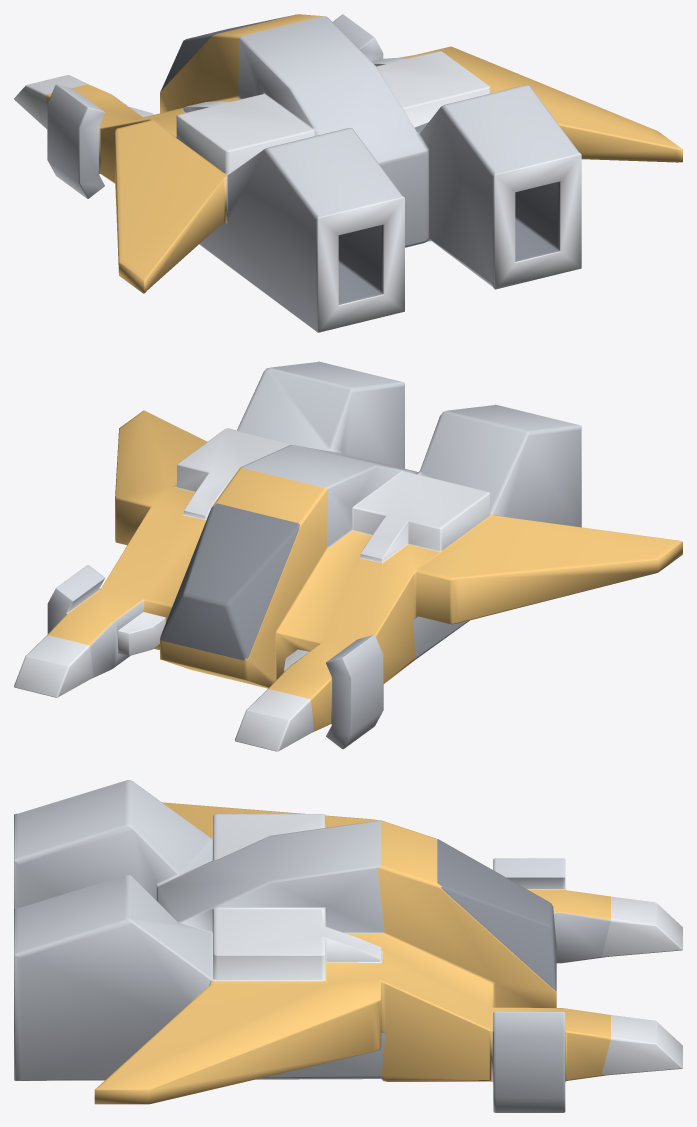
Rendered from air-basic.glb.
The picture shows the model from 3 angles, top to bottom: view 1: azimuth 30°, elevation 25°; view 2: azimuth 150°, elevation 25°; view 3: azimuth 270°, elevation 25°; orthographic projection. The views are drawn at different scales.
Visible parts, largest first — view 1: craft_miner; view 2: craft_miner; view 3: craft_miner.
Part boxes in pixels (box(x1,y1,x2,y2)): craft_miner: box(14, 14, 682, 332); craft_miner: box(14, 361, 682, 751); craft_miner: box(14, 780, 682, 1112).
Size of the model in its own units: 2.44 by 0.7624 by 2.39.
